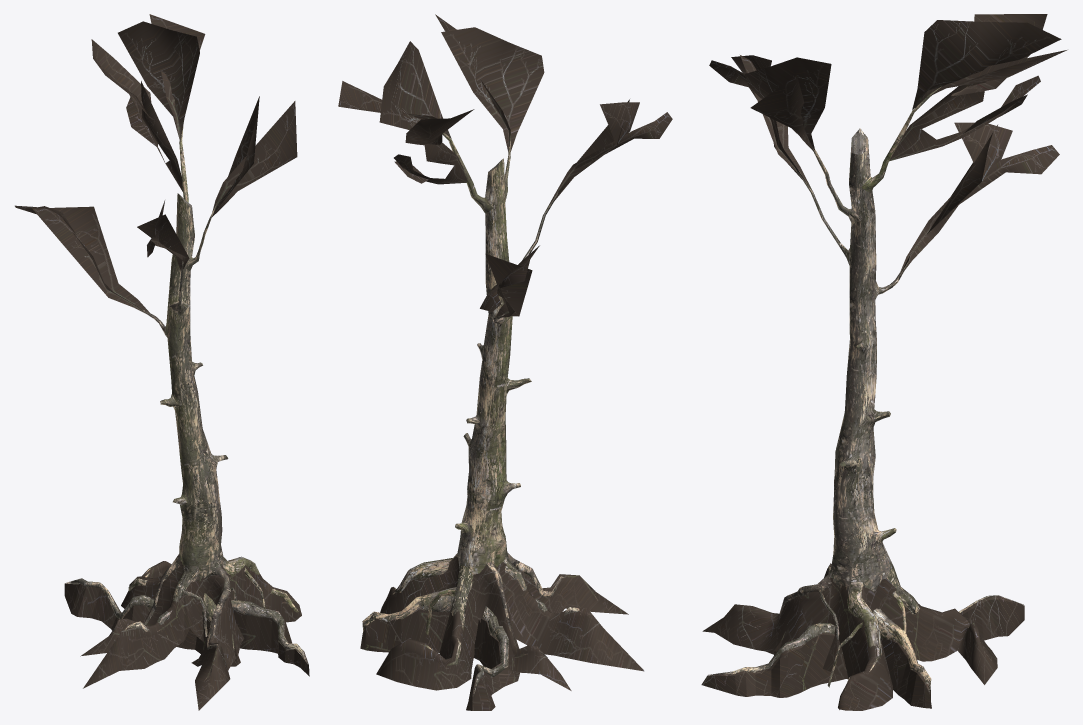
Rendered from SM_Tree_02.fbx.
The picture shows the model from 3 angles, left to right: view 1: azimuth 30°, elevation 25°; view 2: azimuth 150°, elevation 25°; view 3: azimuth 270°, elevation 25°; orthographic projection. The views are drawn at different scales.
Visible parts, largest first — view 1: SM_Tree_02; view 2: SM_Tree_02; view 3: SM_Tree_02.
Boxes of the visible parts, x1,y1,x2,y2 form: SM_Tree_02: [15, 14, 309, 710]; SM_Tree_02: [338, 14, 672, 710]; SM_Tree_02: [701, 14, 1066, 710].
Size of the model in its own units: 325 by 387 by 777.
Materials: 2 (2 with a texture image).
